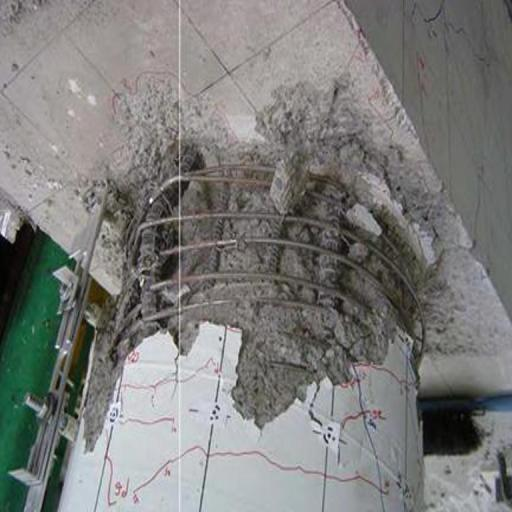spalling: (84, 155, 424, 449)
